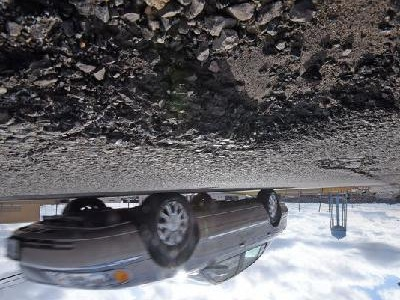pothole: (0, 0, 400, 154), (312, 157, 352, 171)
